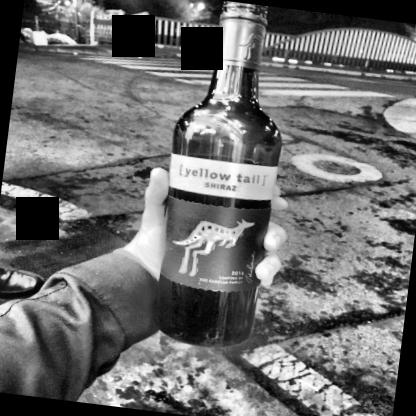yellowtail: (154, 151, 278, 294)
